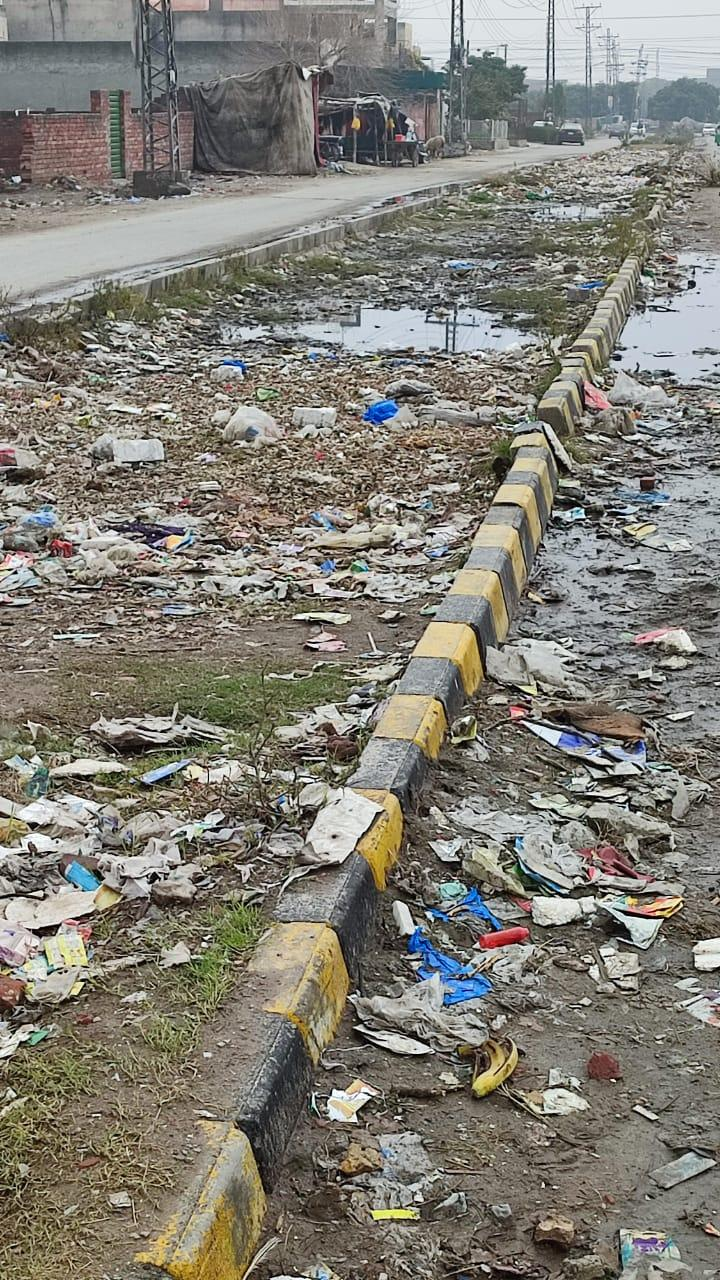garbage: (2, 308, 720, 1280), (436, 168, 699, 320)
